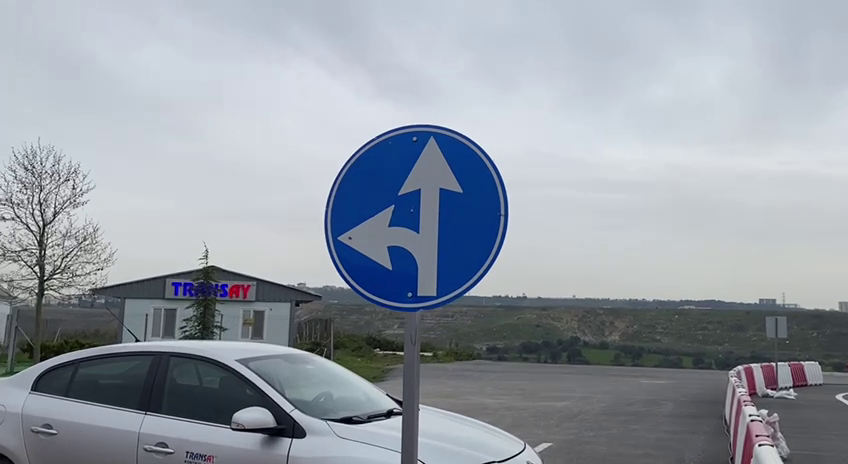forwardAndLeft: (321, 122, 513, 316)
